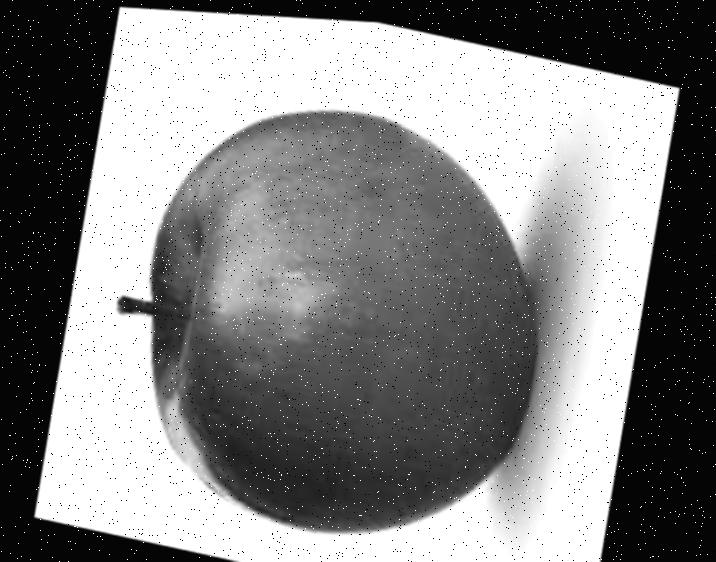HEALTHY: (77, 23, 603, 562)
